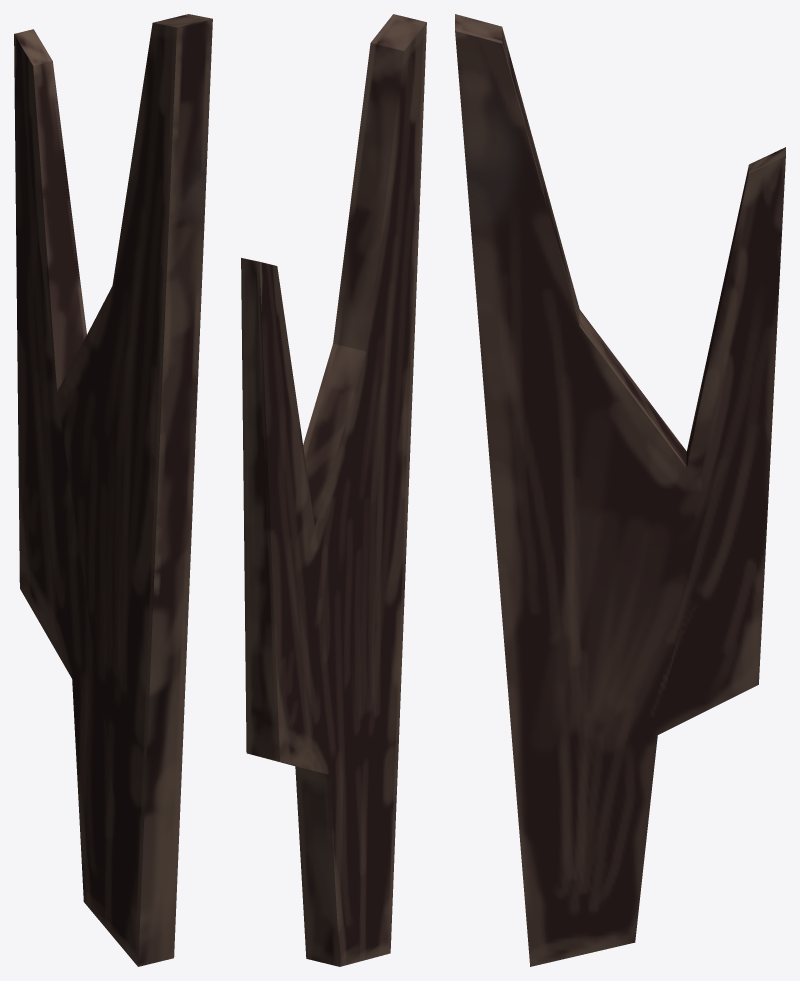
File: Sliver.obj
3 views of the same model, side by side, from view 1: azimuth 30°, elevation 25°; view 2: azimuth 150°, elevation 25°; view 3: azimuth 270°, elevation 25° (orthographic). The views are drawn at different scales.
Parts seen in each view (by area): view 1: Plane; view 2: Plane; view 3: Plane.
Part boxes in pixels (x1,y1,x2,y2): Plane: [14, 14, 212, 966]; Plane: [241, 14, 426, 966]; Plane: [455, 14, 785, 966].
Size of the model in its own units: 0.6153 by 15.82 by 5.07.
